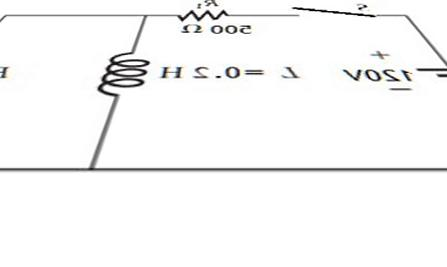inductor: (78, 42, 157, 99)
